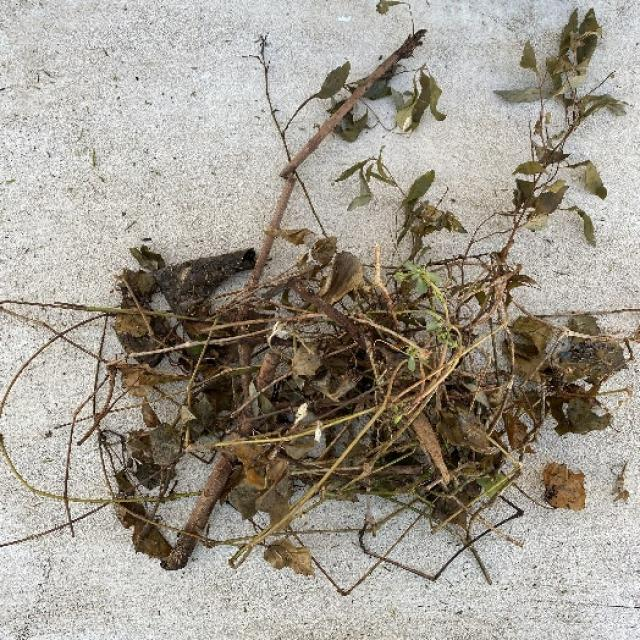organik: (111, 19, 640, 566)
